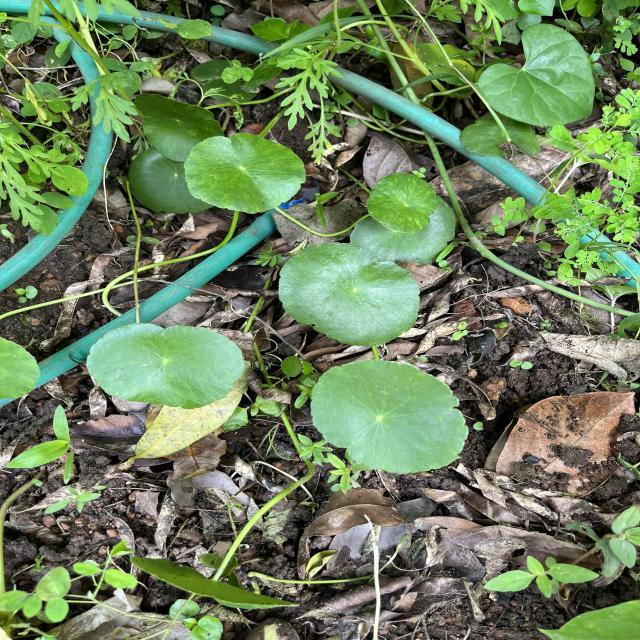Bacopa monnieri: (308, 355, 471, 477), (274, 239, 424, 349), (83, 319, 250, 412), (180, 130, 310, 217), (364, 170, 441, 237)
